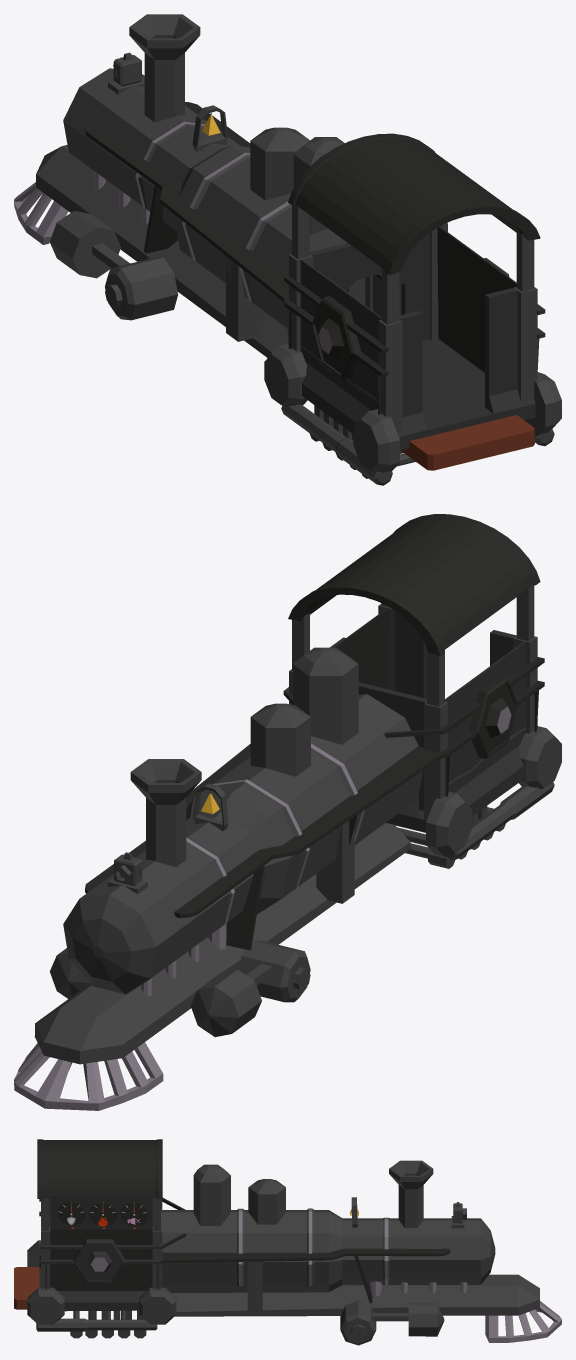
Rendered from headtrain2.fbx.
3 renders of one model, top to bottom at view 1: azimuth 30°, elevation 25°; view 2: azimuth 150°, elevation 25°; view 3: azimuth 270°, elevation 25°, orthographic. The views are drawn at different scales.
Parts seen in each view (by area): view 1: Cube.005, Cylinder, Cylinder.014, Cube.006, Cube.001, Cylinder.003, Cylinder.002, Cylinder.001, headrightwall, Cube.008, Cylinder.006, Cube.002 (+2 smaller); view 2: Cylinder, Cylinder.014, Cylinder.002, Cube.001, Cylinder.003, Cube.005, Cube.006, Cylinder.001, Cube.002, Cylinder.006, headrightwall, Cylinder.005 (+2 smaller); view 3: Cylinder, Cylinder.002, Cylinder.014, headrightwall, Cylinder.003, Cube.006, Cube.001, Cube.005, Cylinder.001, Cylinder.006, Cube.002, Cube.008 (+6 smaller).
Boxes of the visible parts, x1,y1,x2,y2 form: Cube.005: (300, 233, 535, 450); Cylinder: (63, 68, 401, 328); Cylinder.014: (288, 133, 540, 275); Cube.006: (264, 205, 561, 472); Cube.001: (85, 102, 388, 414); Cylinder.003: (129, 14, 344, 235); Cylinder.002: (36, 145, 288, 357); Cylinder.001: (50, 211, 178, 320); headrightwall: (437, 226, 545, 372); Cube.008: (401, 415, 534, 470); Cylinder.006: (281, 404, 554, 485); Cube.002: (14, 182, 68, 244); Cylinder: (63, 694, 422, 994); Cylinder.014: (288, 514, 540, 655); Cylinder.002: (34, 823, 410, 1064); Cube.001: (85, 657, 544, 950); Cylinder.003: (130, 647, 358, 867); Cube.005: (358, 611, 525, 832); Cube.006: (289, 585, 561, 856); Cylinder.001: (49, 940, 310, 1036); Cube.002: (14, 1042, 163, 1110); Cylinder.006: (395, 782, 554, 868); headrightwall: (284, 608, 388, 692); Cylinder.005: (193, 783, 228, 831); Cylinder: (161, 1208, 495, 1292); Cylinder.002: (171, 1274, 539, 1316); Cylinder.014: (37, 1139, 162, 1199); headrightwall: (39, 1228, 162, 1290); Cylinder.003: (193, 1160, 433, 1227); Cube.006: (27, 1198, 176, 1324); Cube.001: (39, 1198, 450, 1314); Cube.005: (39, 1198, 152, 1311); Cylinder.001: (340, 1300, 444, 1345); Cylinder.006: (36, 1310, 157, 1338); Cube.002: (485, 1301, 561, 1342); Cube.008: (14, 1267, 39, 1309).
Bounding box in the file's own units: 530 × 746 × 2079.
